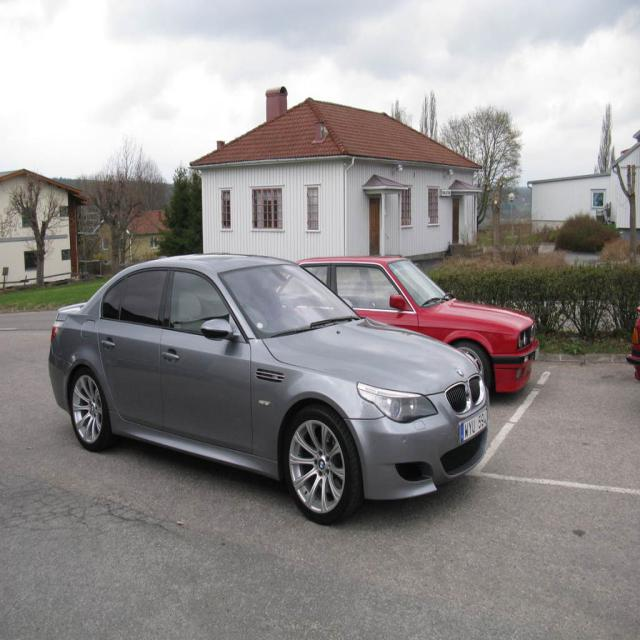car: (48, 252, 489, 526)
